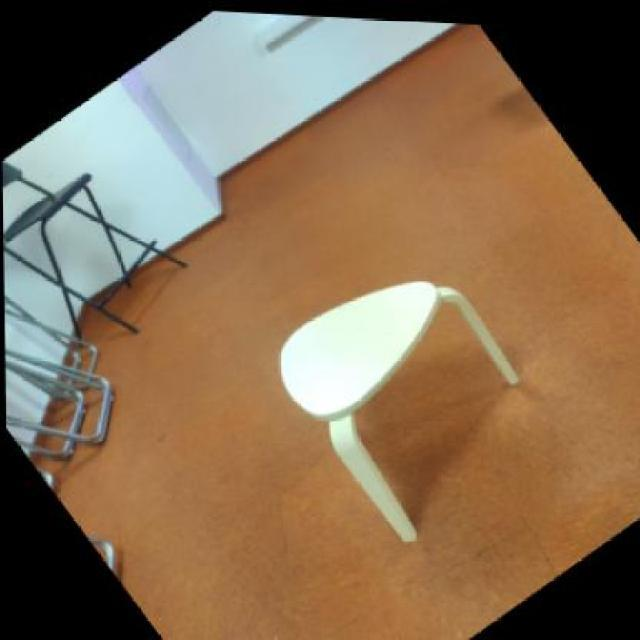chair: (270, 274, 542, 554), (2, 92, 224, 394)
